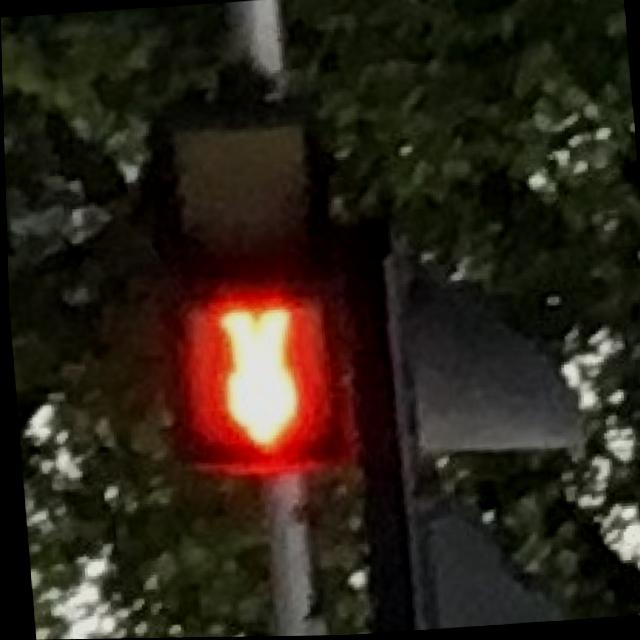red_light: (173, 290, 334, 470)
